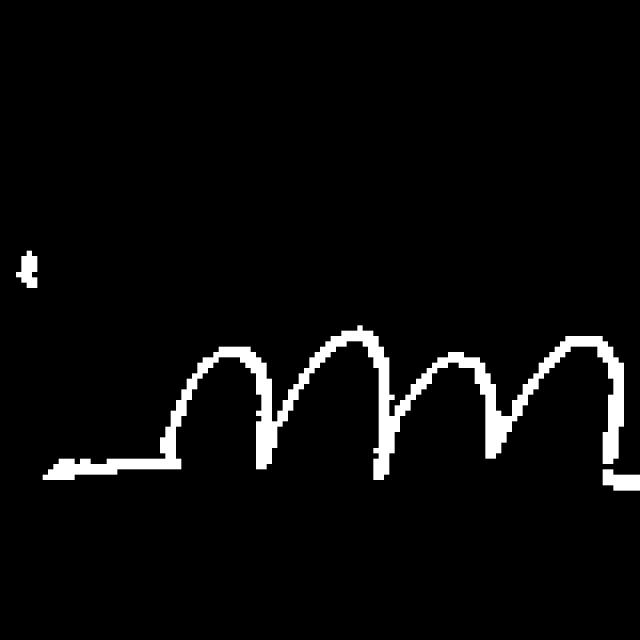inductor: (146, 312, 634, 496)
